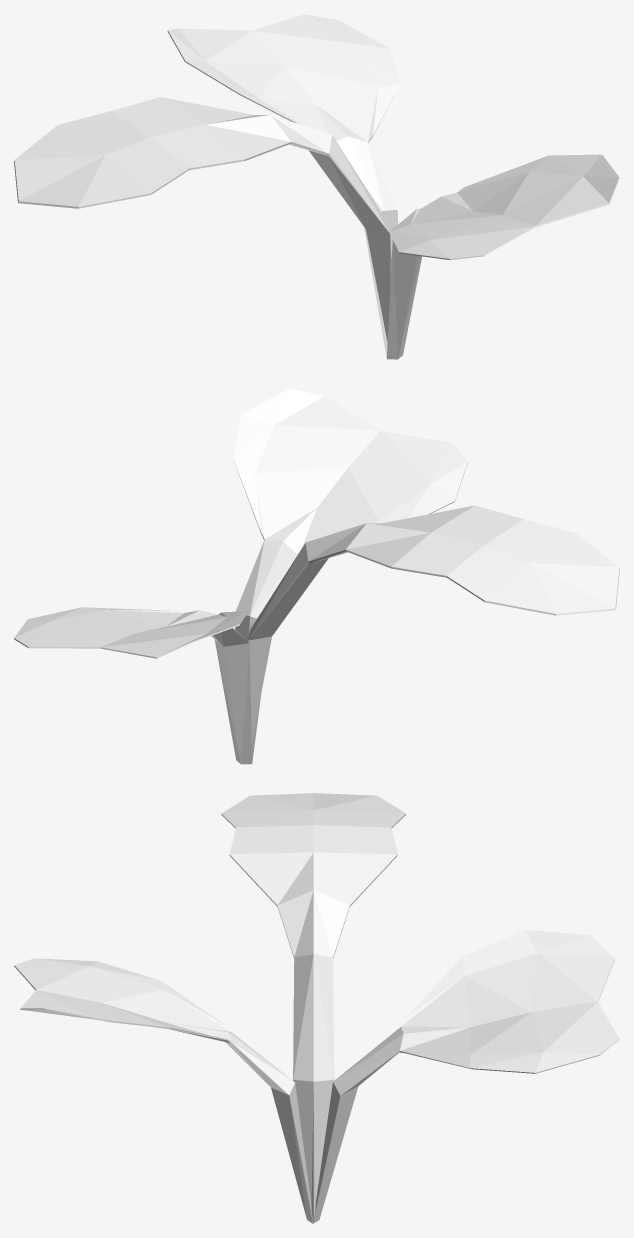
The model's file is Crop_Cauliflower_STAGE_1_01.glb.
3 views of the same model, one above another, from view 1: azimuth 30°, elevation 25°; view 2: azimuth 150°, elevation 25°; view 3: azimuth 270°, elevation 25° (orthographic).
Visible parts, largest first — view 1: Crop_Cauliflower_STAGE_1_01; view 2: Crop_Cauliflower_STAGE_1_01; view 3: Crop_Cauliflower_STAGE_1_01.
Part boxes in pixels (x1,y1,x2,y2): Crop_Cauliflower_STAGE_1_01: (14, 14, 619, 359); Crop_Cauliflower_STAGE_1_01: (14, 388, 619, 764); Crop_Cauliflower_STAGE_1_01: (14, 793, 619, 1223).
Size of the model in its own units: 0.1801 by 0.0995 by 0.1973.
1 material, 1 textured.
